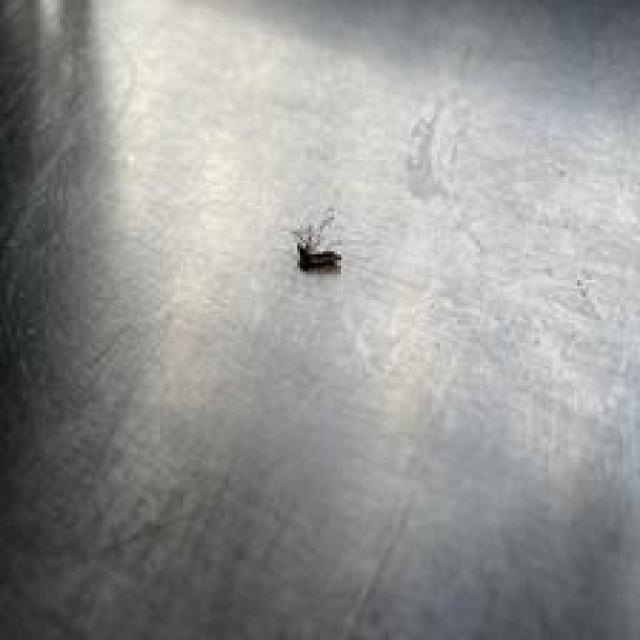Culex: (291, 213, 343, 273)
